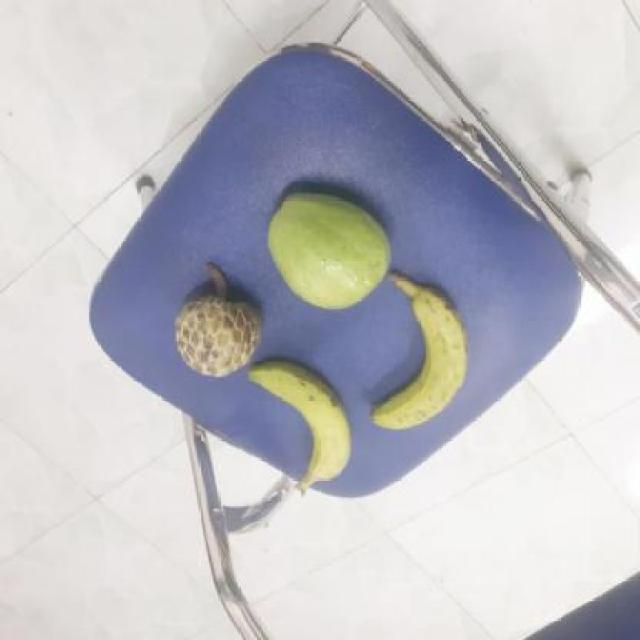banana: (366, 282, 479, 429), (252, 365, 357, 490)
guava: (271, 190, 397, 308)
sugar apple: (174, 271, 266, 378)
